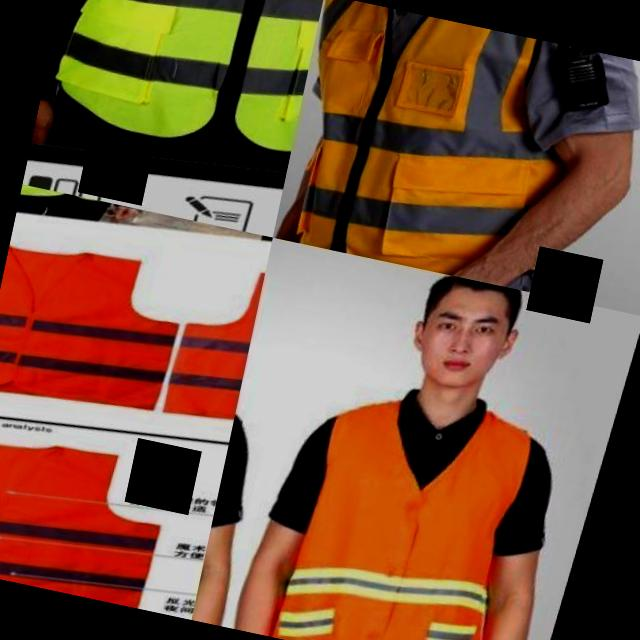vest: (279, 0, 586, 293), (273, 383, 541, 640), (37, 0, 324, 163)
